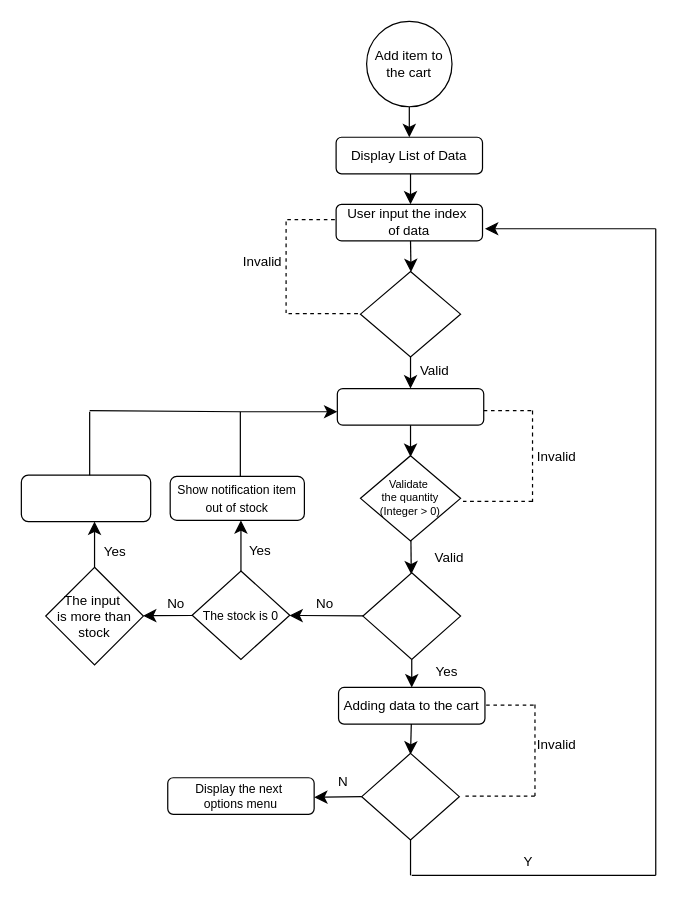
This 678x904 diagram has some shape labels left out. The shapes that lost their labels are listed below. From the top down, each one's box as (x1, y1, x2, y2) in pixels, then its label:
(359, 270, 461, 357): Validate the index
(336, 387, 484, 425): User input the quantity
(20, 474, 151, 522): Show notification stock doesn't enough
(362, 572, 461, 659): The stock is enough
(361, 752, 459, 840): Continue shopping? (Y/N)
